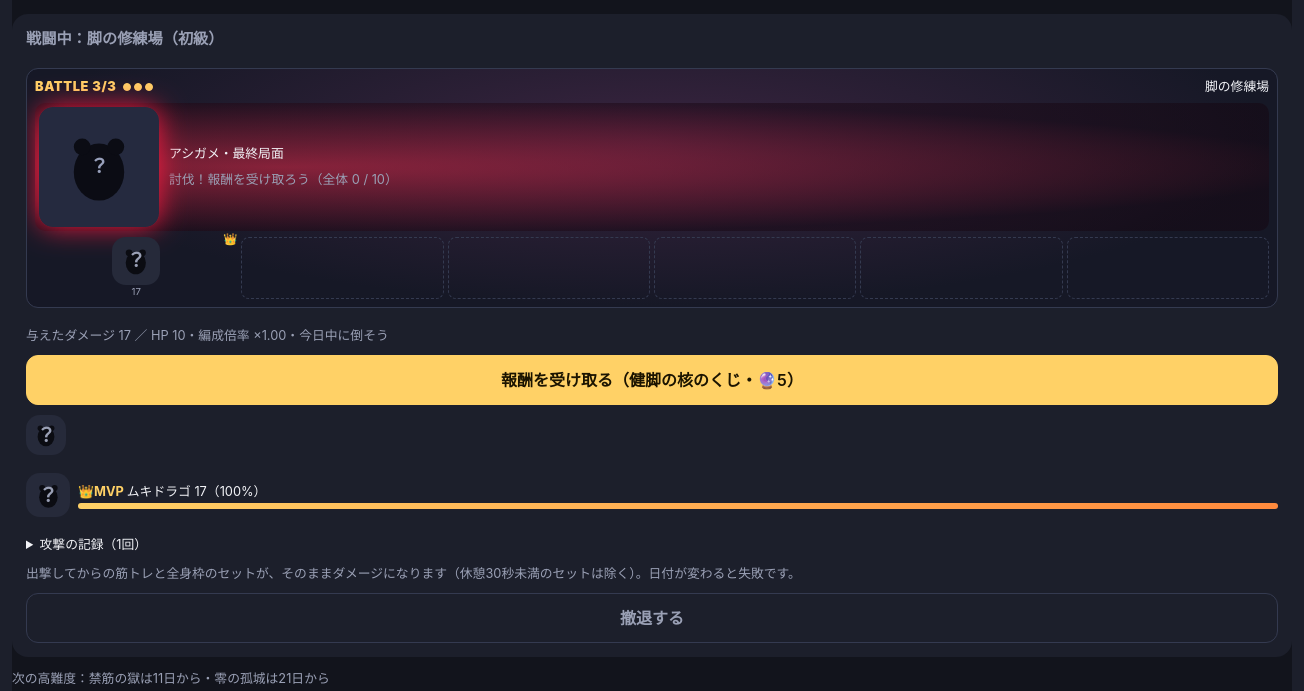
it: 画面の表示 › 素材クエスト：倒すとくじの数だけ素材が落ちる（0個のこともある）
(page scrolled)
Click the button "報酬を受け取る（健脚の核のくじ・🔮5）": (652, 380) [26,355,1278,405]
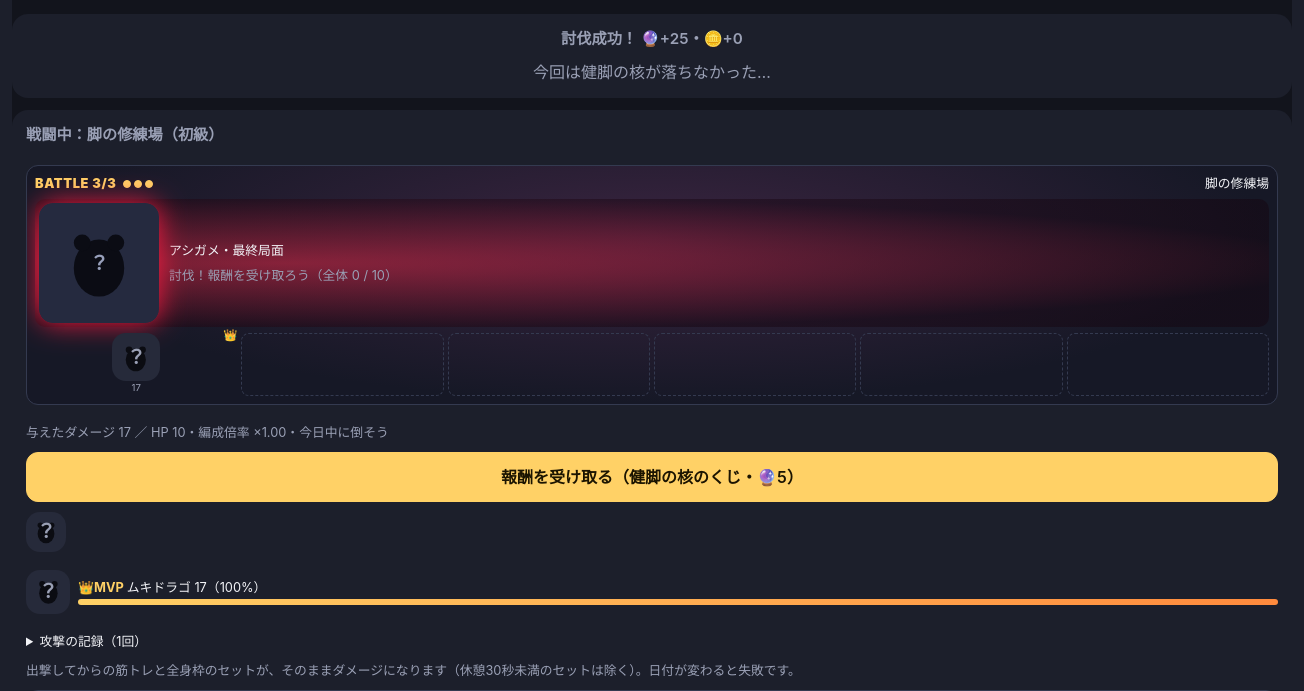
Result: the text "今回は健脚の核が落ちなかった" is shown at [533,60,771,84]
